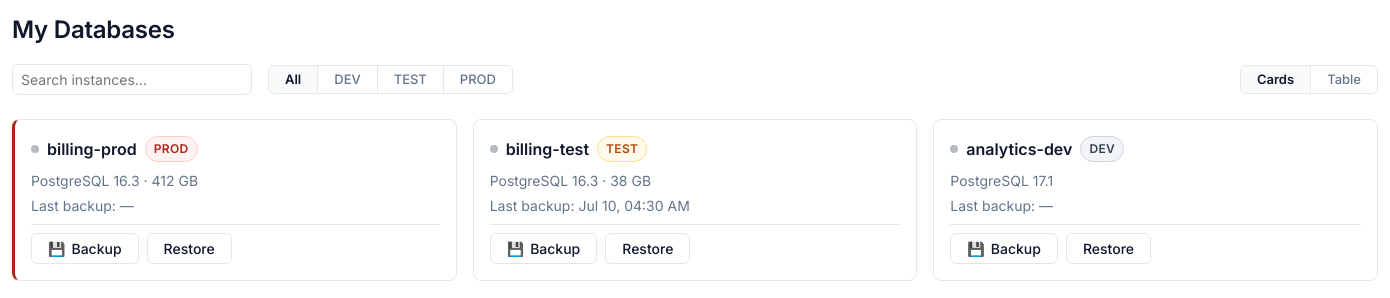
Test case: search filters client-side by name, cluster and owner
Expected: the text "billing-prod" is shown, [47, 137, 137, 161]
Type "analytics" into the search field labelled "Search instances" at (132, 80), box [12, 64, 252, 95]
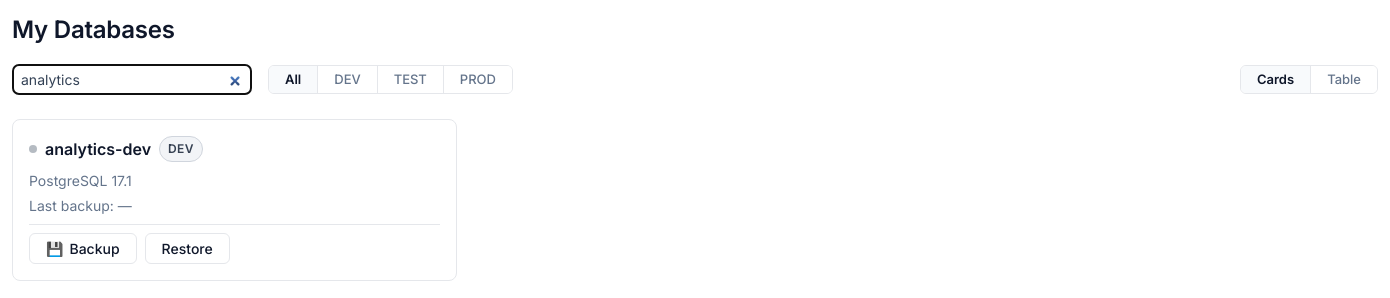
Expected: the text "analytics-dev" is shown, [45, 137, 151, 161]
Expected: the text "billing-prod" is gone
Replace the text in the search field named "Search instances" with "zzz" at (132, 80), box [12, 64, 252, 95]
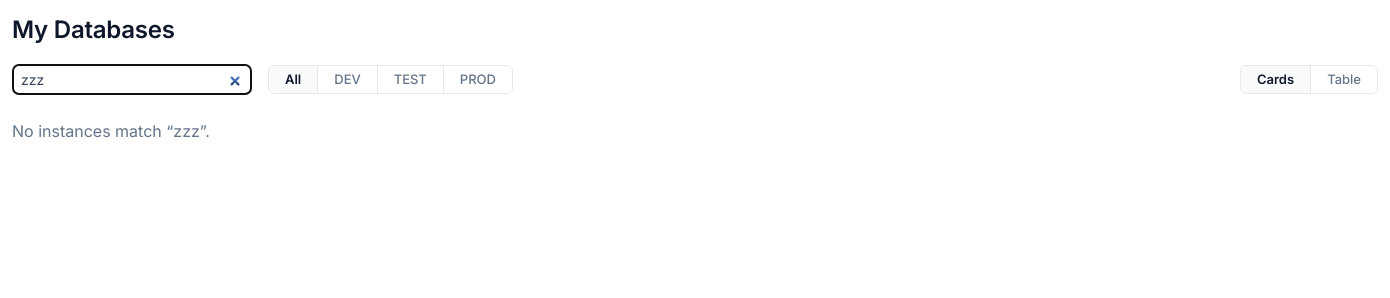
Expected: the text "No instances match “zzz”." is shown, [12, 121, 210, 141]
